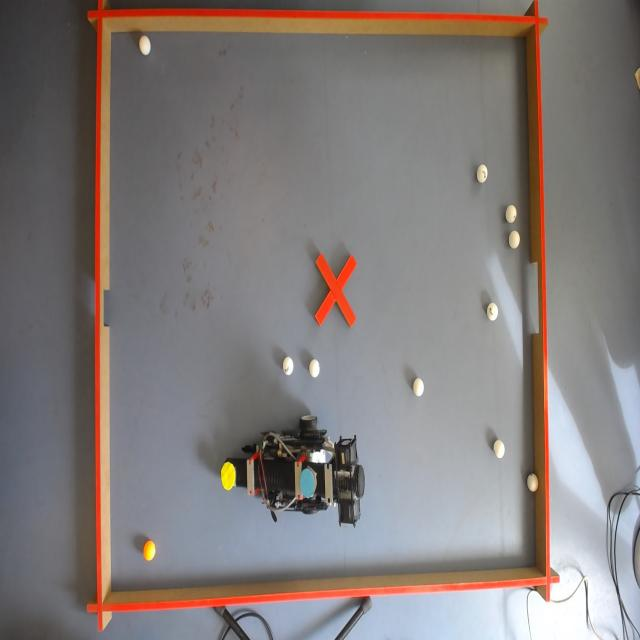orange: (141, 544, 157, 562)
robot: (237, 427, 361, 524)
robot-front: (221, 462, 235, 490)
robot-rear: (299, 468, 315, 499)
white: (493, 439, 508, 460), (138, 37, 152, 59), (412, 376, 425, 397), (526, 473, 539, 494), (308, 360, 320, 380), (476, 164, 489, 182), (509, 229, 520, 250), (507, 205, 518, 223), (282, 358, 292, 375), (486, 302, 496, 318)
